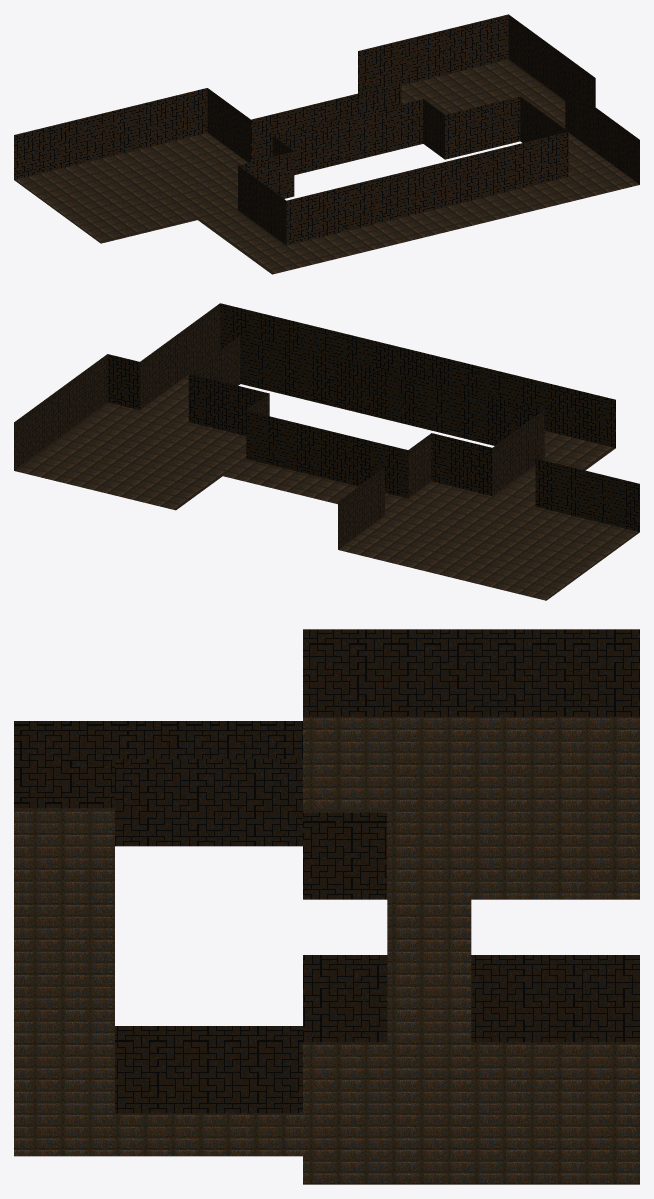
File: TestLevel.glb
3 renders of one model, top to bottom at view 1: azimuth 30°, elevation 25°; view 2: azimuth 150°, elevation 25°; view 3: azimuth 270°, elevation 25°, orthographic. The views are drawn at different scales.
Parts seen in each view (by area): view 1: Plane; view 2: Plane; view 3: Plane.
Boxes of the visible parts, x1,y1,x2,y2 form: Plane: [14, 14, 639, 274]; Plane: [14, 303, 639, 600]; Plane: [14, 629, 639, 1184].
Bounding box in the file's own units: 23 × 2 × 13.
Materials: 2 (2 with a texture image).
